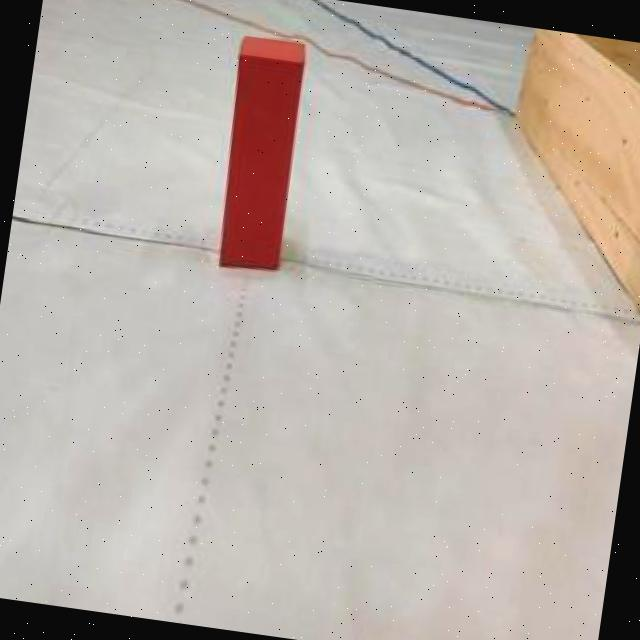redbox: (205, 32, 313, 274)
